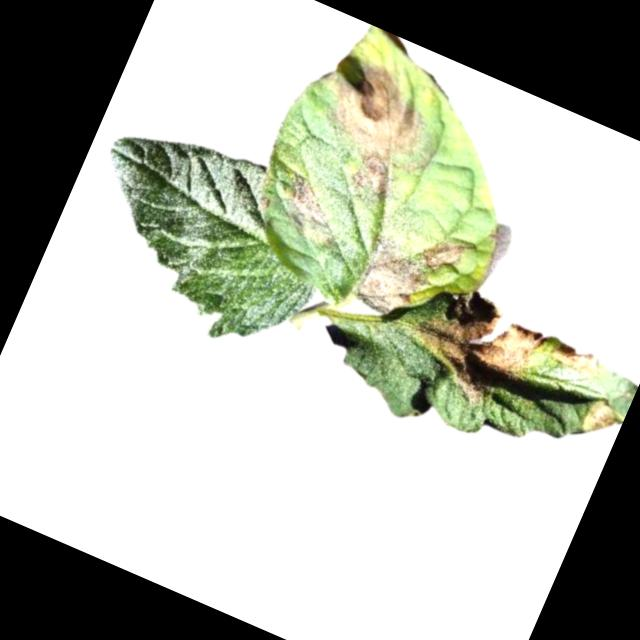Late_blight: (284, 45, 456, 210), (393, 273, 549, 420), (347, 228, 440, 326), (267, 169, 355, 254), (546, 334, 606, 382), (577, 392, 629, 447), (419, 231, 469, 279)
healthy: (54, 107, 353, 370)
